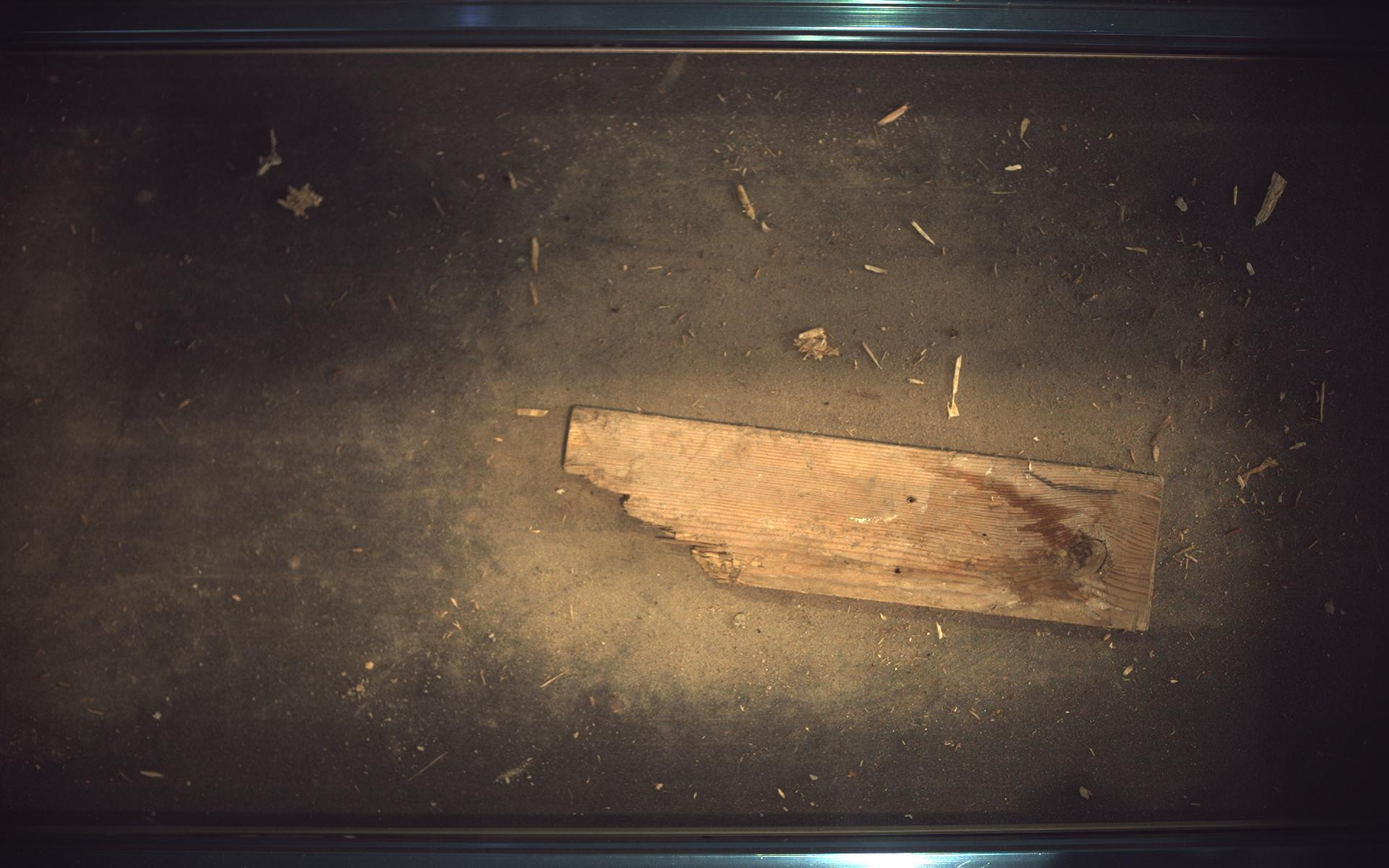wood: (564, 406, 1166, 631)
